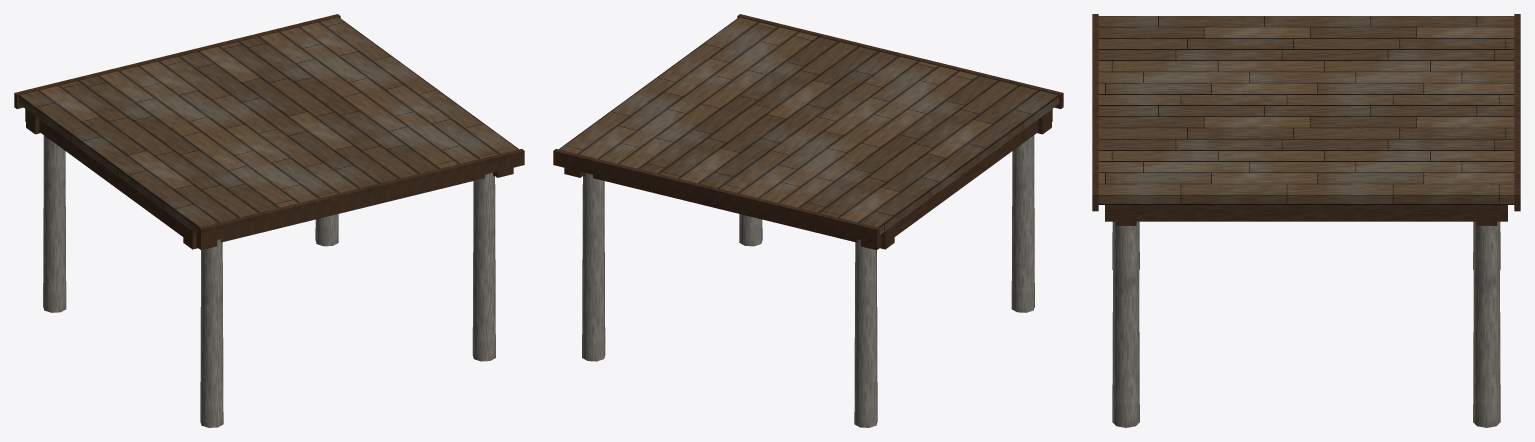
Rendered from SM_Art_Pier_400x400x100_P250.gltf.
3 views of the same model, side by side, from view 1: azimuth 30°, elevation 25°; view 2: azimuth 150°, elevation 25°; view 3: azimuth 270°, elevation 25° (orthographic). The views are drawn at different scales.
Visible parts, largest first — view 1: SM_Art_Pier_400x400x100_P250; view 2: SM_Art_Pier_400x400x100_P250; view 3: SM_Art_Pier_400x400x100_P250.
Boxes of the visible parts, x1=… form: SM_Art_Pier_400x400x100_P250: x1=14, y1=14, x2=524, y2=427; SM_Art_Pier_400x400x100_P250: x1=553, y1=14, x2=1063, y2=427; SM_Art_Pier_400x400x100_P250: x1=1092, y1=14, x2=1520, y2=427.
Bounding box in the file's own units: 4.04 × 2.51 × 4.04.
Materials: 3 (3 with a texture image).
